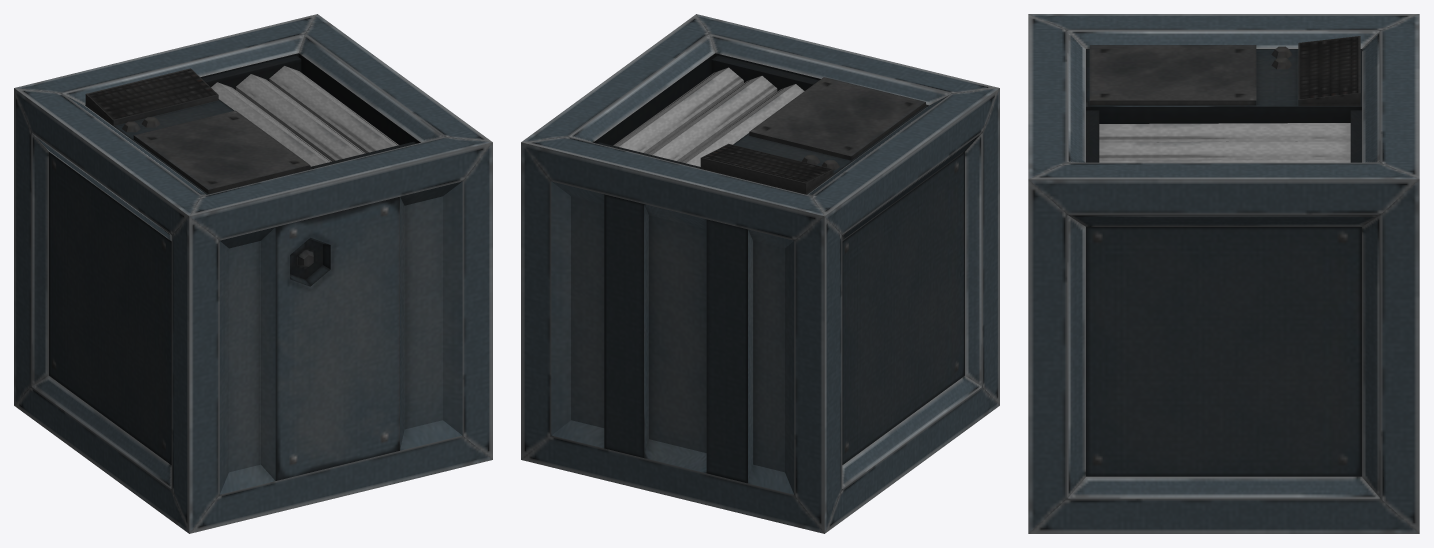
The model's file is Container.FBX.
3 views of the same model, side by side, from view 1: azimuth 30°, elevation 25°; view 2: azimuth 150°, elevation 25°; view 3: azimuth 270°, elevation 25° (orthographic). The views are drawn at different scales.
Parts seen in each view (by area): view 1: Container; view 2: Container; view 3: Container.
Boxes of the visible parts, x1,y1,x2,y2 form: Container: [14, 14, 492, 533]; Container: [521, 14, 999, 533]; Container: [1028, 14, 1419, 533].
Size of the model in its own units: 100 by 101 by 100.
